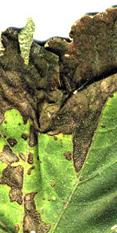Tomato leaf bacterial spot: (0, 3, 117, 233)
